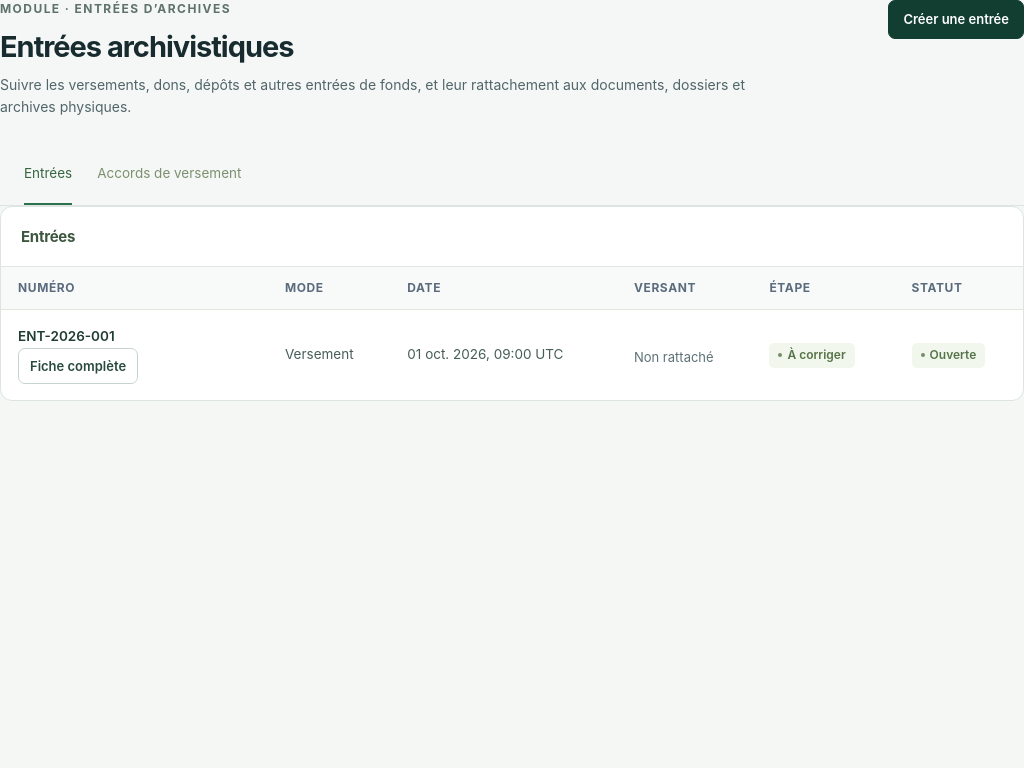
une correction demandée s’affiche avec son motif, et le bordereau redevient modifiable
This screenshot has width=1024, height=768.
Click the button "ENT-2026-001" at {"x": 113, "y": 337}, box [18,326,208,348]
(page scrolled)
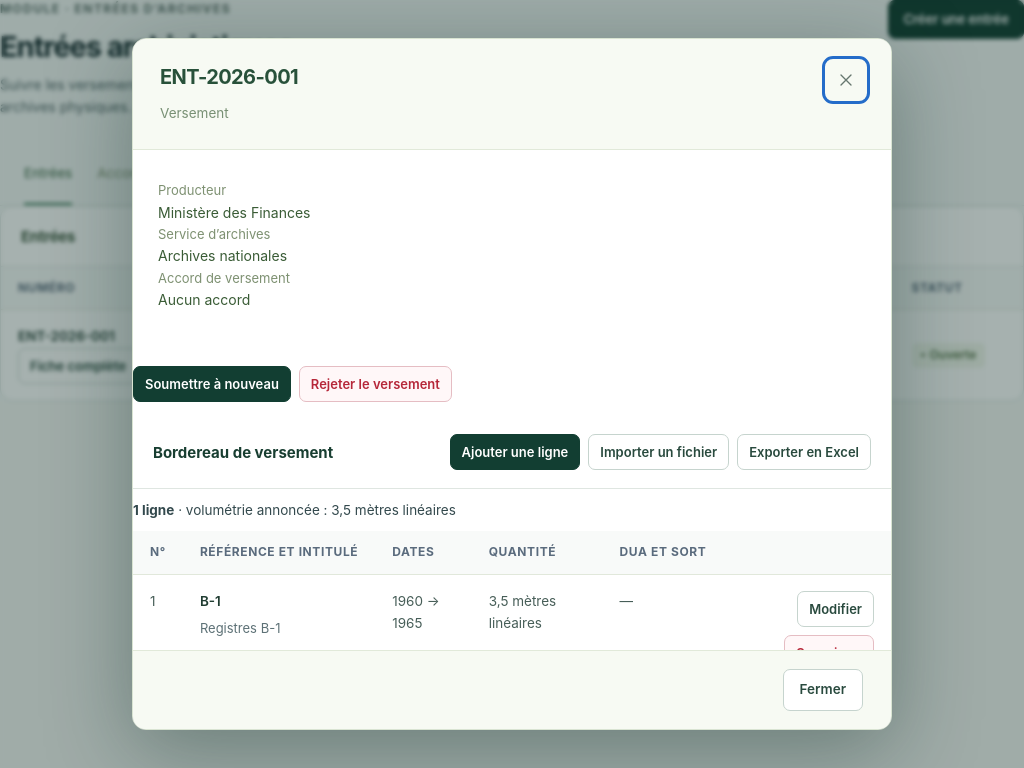
Check: the text "Correction demandée : Dates manquantes à la ligne 2" is shown, box [182,75,528,97]
Check: the button "Ajouter une ligne" is shown, box [450,434,580,470]
Check: the button "Soumettre à nouveau" is shown, box [133,366,291,402]
